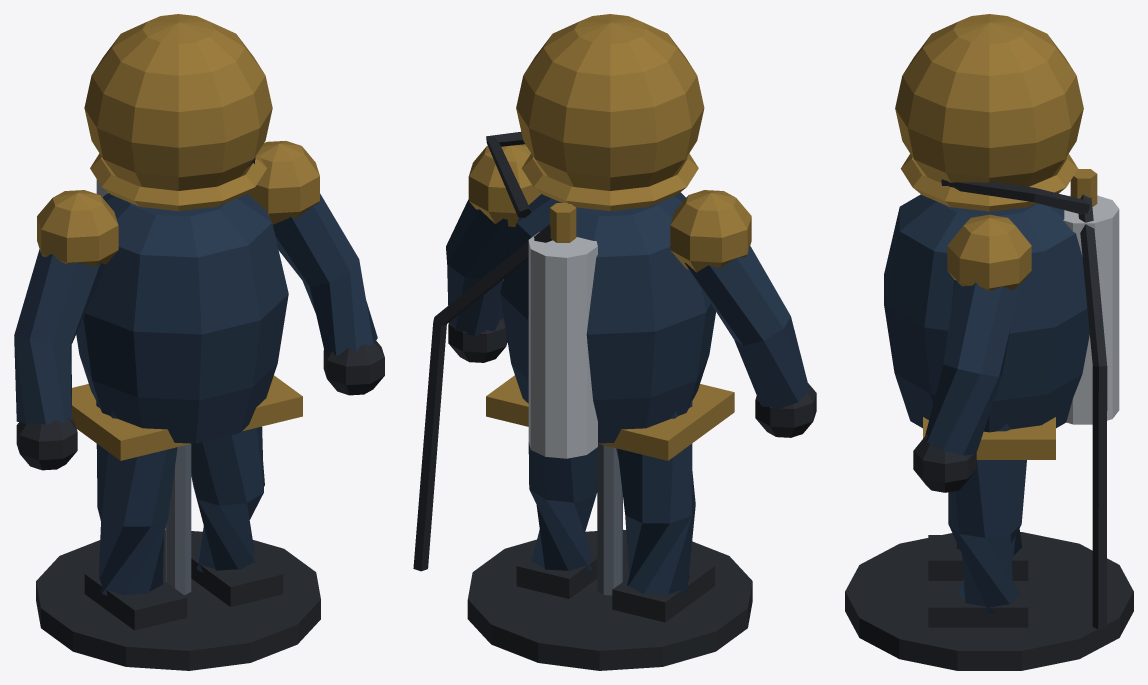
File: diving-suit.glb
3 views of the same model, side by side, from view 1: azimuth 30°, elevation 25°; view 2: azimuth 150°, elevation 25°; view 3: azimuth 270°, elevation 25° (orthographic).
Visible parts, largest first — view 1: m; view 2: m; view 3: m.
Boxes of the visible parts, left/top/right/bottom form: m: left=14, top=14, right=384, bottom=670; m: left=413, top=14, right=816, bottom=670; m: left=845, top=14, right=1133, bottom=670.
Size of the model in its own units: 0.361 by 0.56 by 0.2489.
